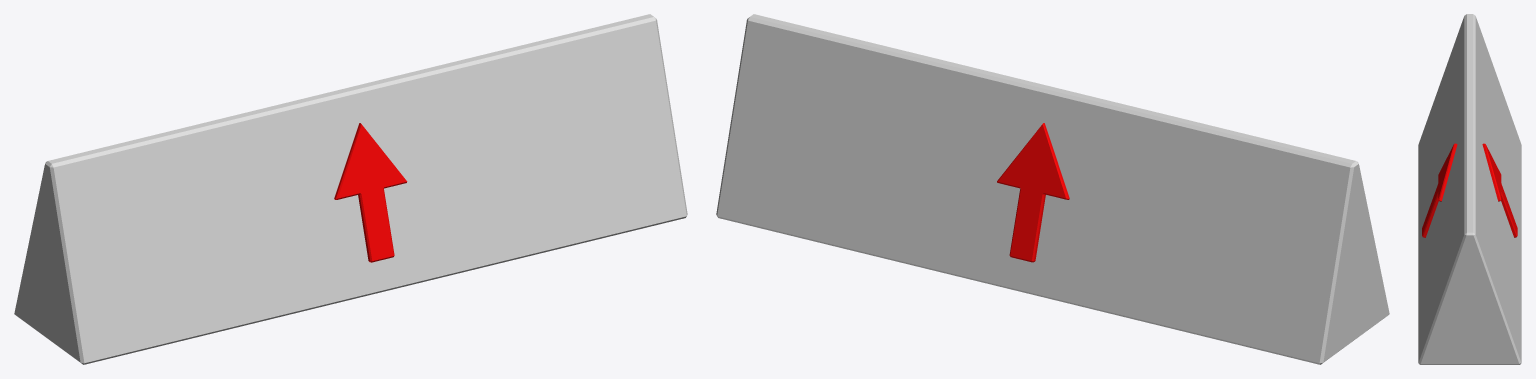
The model's file is obstacle_01.glb.
3 views of the same model, side by side, from view 1: azimuth 30°, elevation 25°; view 2: azimuth 150°, elevation 25°; view 3: azimuth 270°, elevation 25° (orthographic). The views are drawn at different scales.
Parts seen in each view (by area): view 1: Box001, Box003; view 2: Box001, Box002; view 3: Box001, Box003, Box002.
Part boxes in pixels (left/top/right/bottom): Box001: left=14, top=14, right=687, bottom=364; Box003: left=334, top=123, right=407, bottom=262; Box001: left=716, top=14, right=1389, bottom=364; Box002: left=997, top=123, right=1069, bottom=262; Box001: left=1418, top=14, right=1521, bottom=364; Box003: left=1422, top=143, right=1457, bottom=237; Box002: left=1482, top=143, right=1517, bottom=237.
Bounding box in the file's own units: 2.5 × 0.7 × 0.4939.
